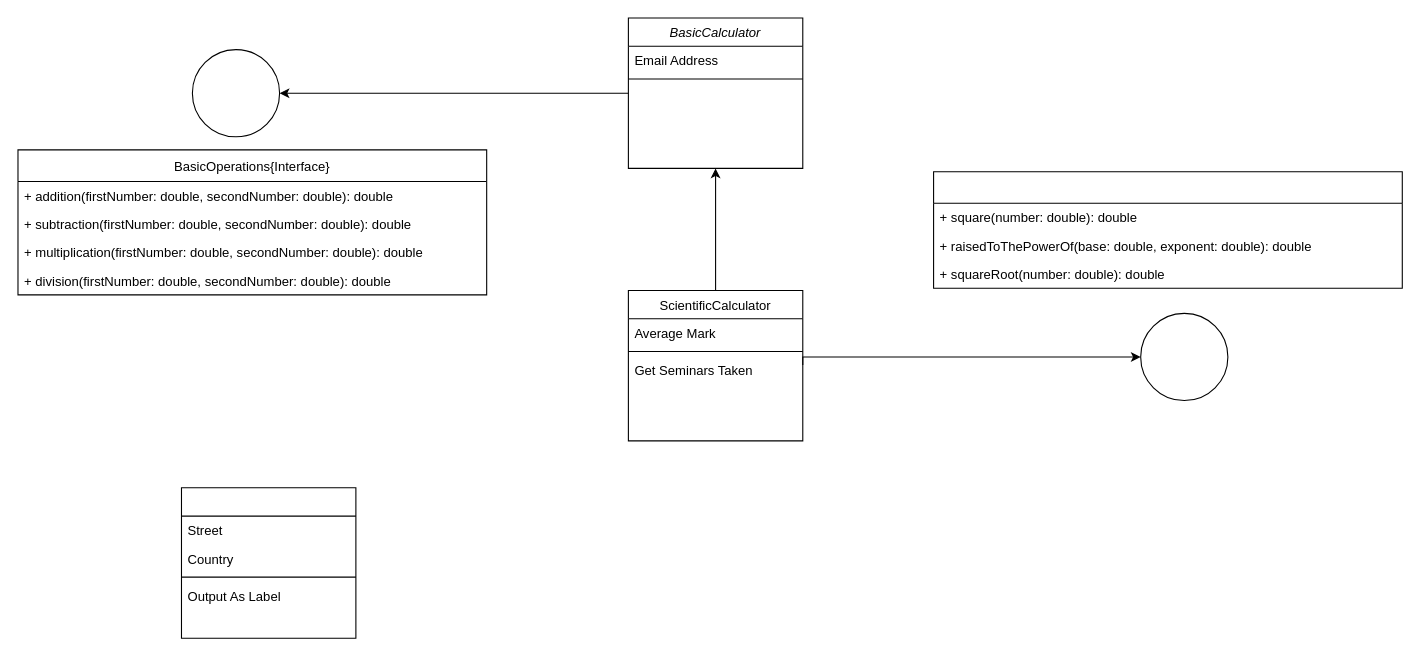
This 1420x656 diagram has some shape labels left out. Each missing label, with the box of its shape:
AdvancedOperations{Interface}: (932, 171, 1402, 288)
Main: (180, 487, 356, 638)
